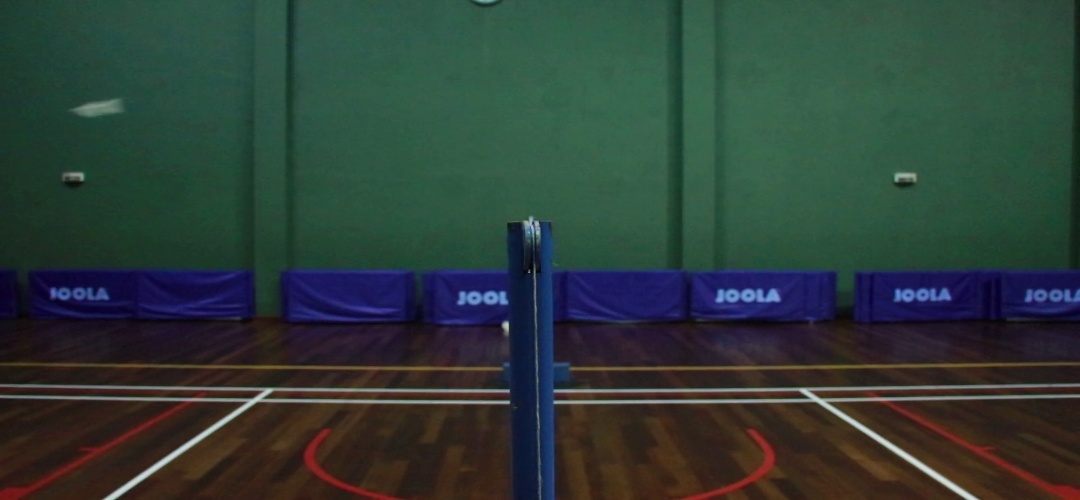c1: (243, 393, 274, 411)
c2: (797, 392, 842, 411)
net_level: (507, 220, 555, 285)
shuttle: (70, 96, 129, 121)
